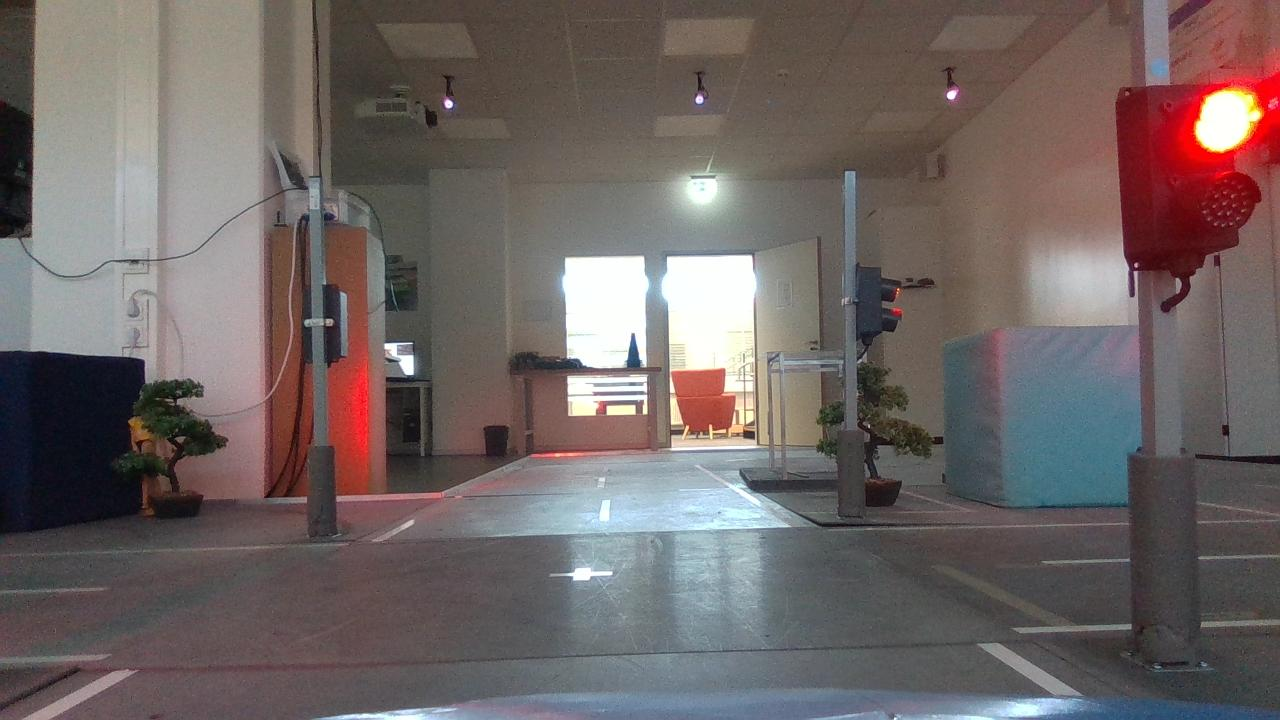traffic_light_red: (1102, 70, 1275, 273)
